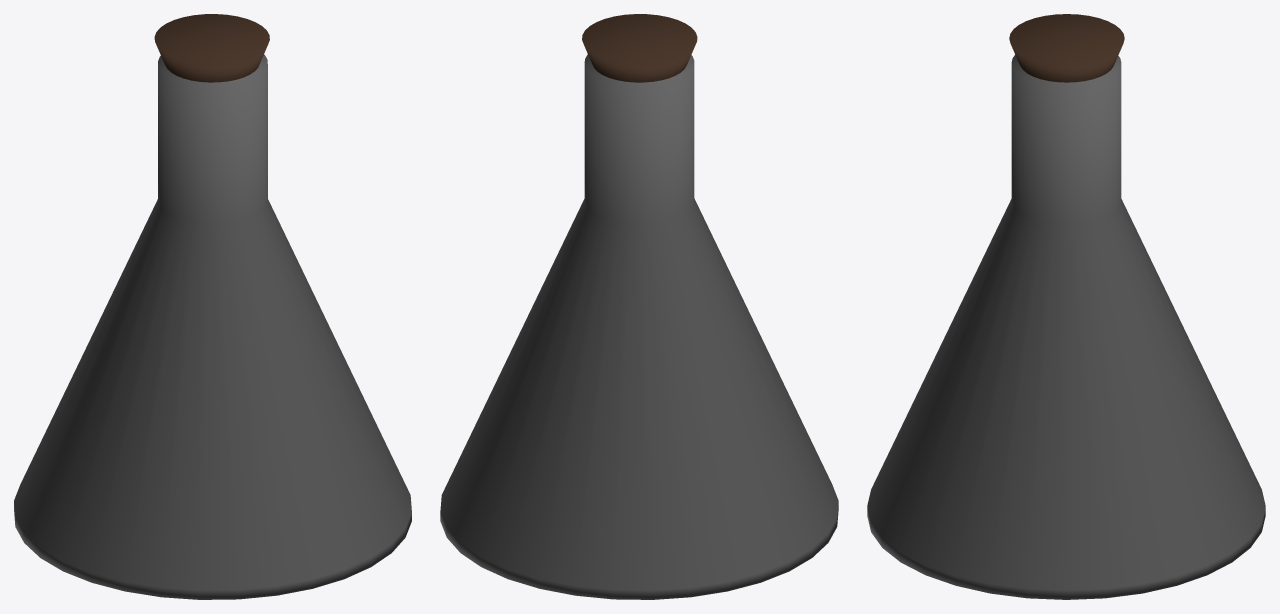
Rendered from flask.fbx.
3 views of the same model, side by side, from view 1: azimuth 30°, elevation 25°; view 2: azimuth 150°, elevation 25°; view 3: azimuth 270°, elevation 25° (orthographic).
Visible parts, largest first — view 1: flask, cork; view 2: flask, cork; view 3: flask, cork.
Part boxes in pixels (x1,y1,x2,y2): flask: (14, 54, 411, 599); cork: (154, 14, 269, 82); flask: (440, 54, 838, 599); cork: (582, 14, 697, 82); flask: (867, 55, 1265, 599); cork: (1009, 14, 1124, 82).
Bounding box in the file's own units: 7.25 × 9.58 × 7.25.
